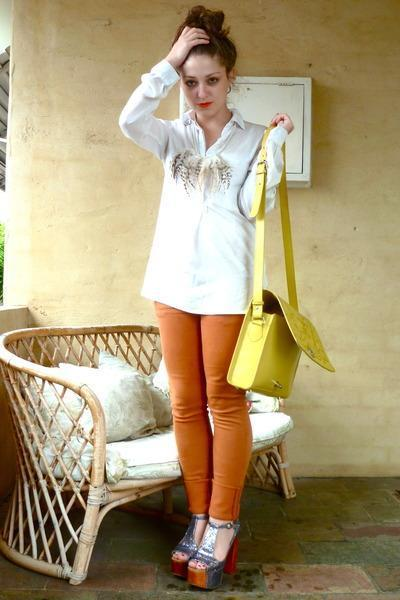bag: (228, 156, 330, 398)
pants: (153, 301, 251, 523)
shirt: (119, 60, 286, 314)
shoe: (164, 517, 254, 599)
